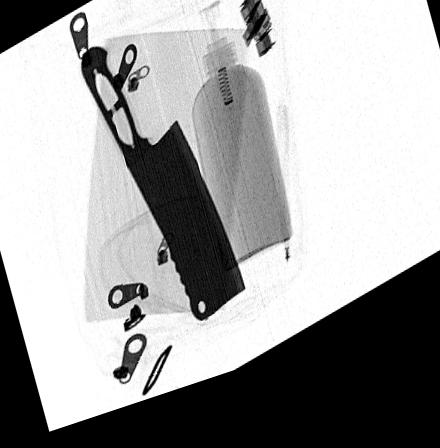Knife: (79, 49, 245, 333)
